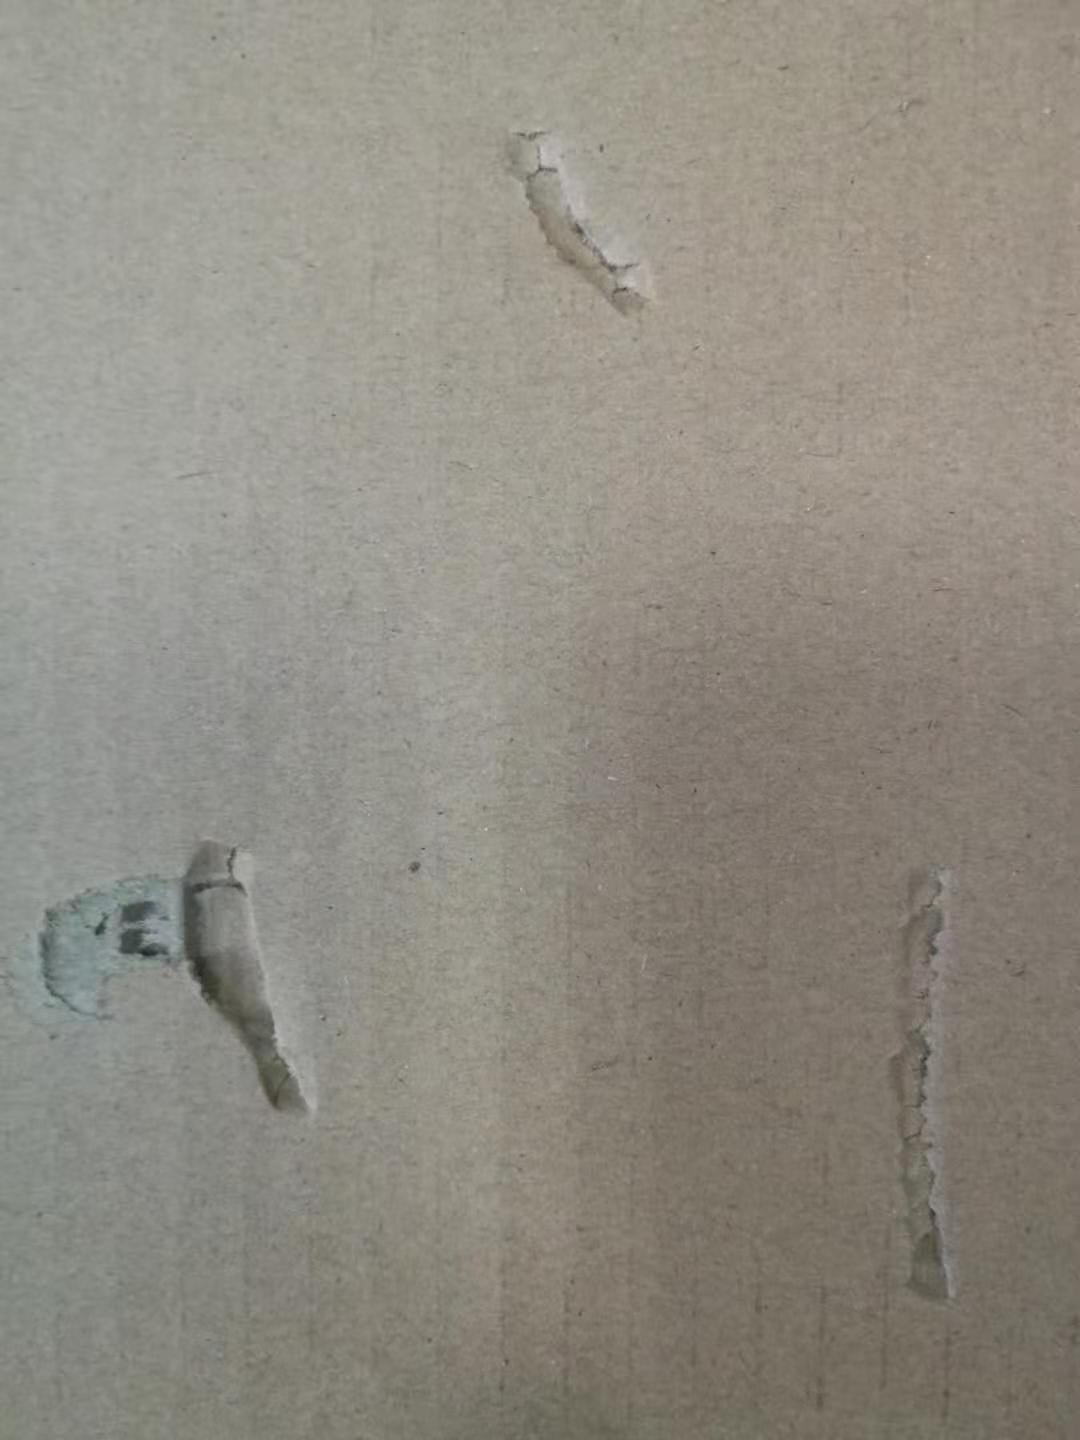defect: (2, 822, 363, 1142), (845, 844, 1009, 1324), (475, 96, 685, 345)
